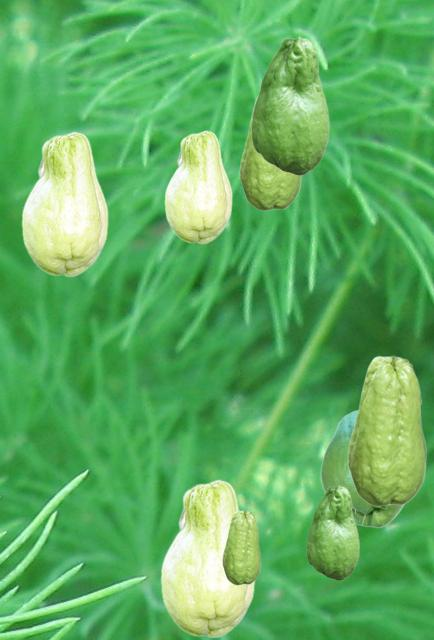sayote: (160, 479, 254, 637), (21, 131, 107, 276), (347, 355, 426, 506), (251, 36, 328, 174), (320, 410, 404, 527), (164, 130, 231, 243), (239, 99, 301, 210), (306, 485, 358, 579), (222, 510, 260, 584)
